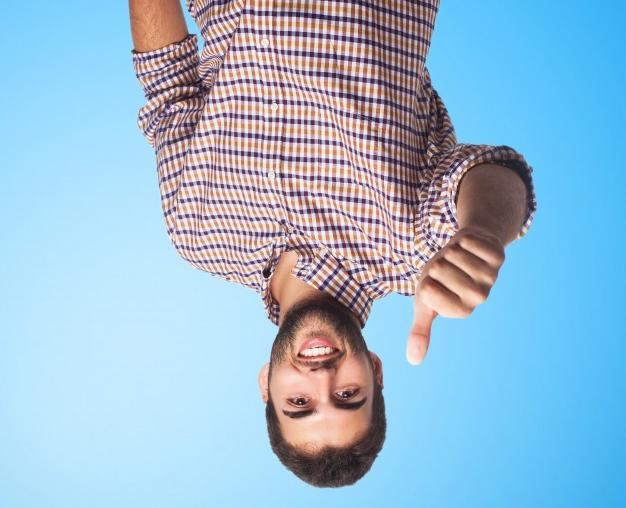thumbsdown: (405, 231, 506, 366)
